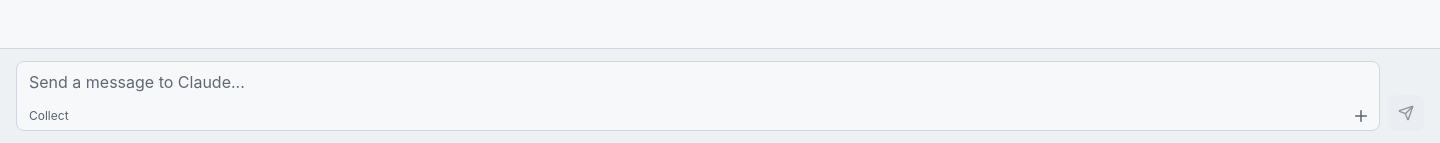
Test: 记为约定 chunk load failure › the boundary button dismisses it (lazy caches the rejection; closing, not retry)
The width and height of the screenshot is (1440, 143).
Click the button named "更多" at (1361, 116), box 1347,102 -> 1375,130
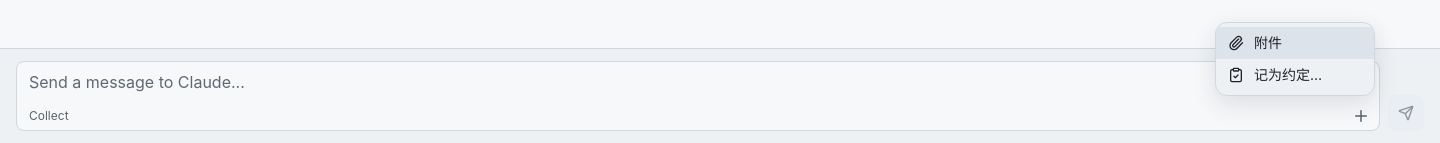
Click the menu item "记为约定…" at (1295, 75), box 1216,59 -> 1374,91
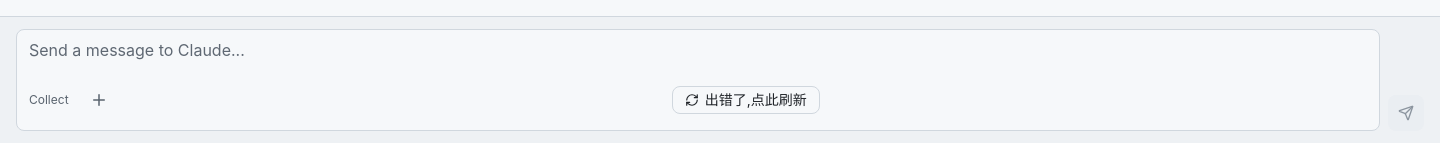
Click the button "出错了,点此刷新" at (746, 100), box 672,86 -> 820,114
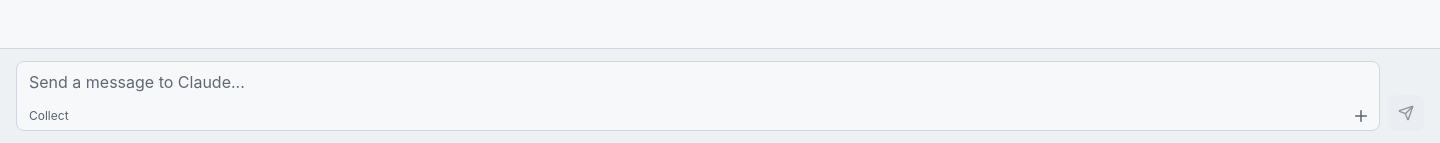
Expected: the button named "更多" is shown, 1347,102 -> 1375,130
Expected: the button "出错了" is gone
